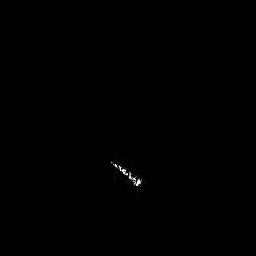ship: (108, 159, 144, 188)
